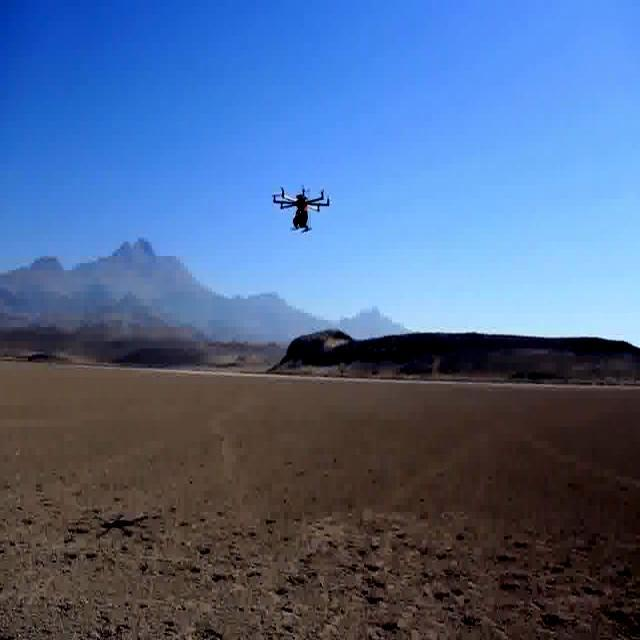drone: (270, 180, 333, 237)
